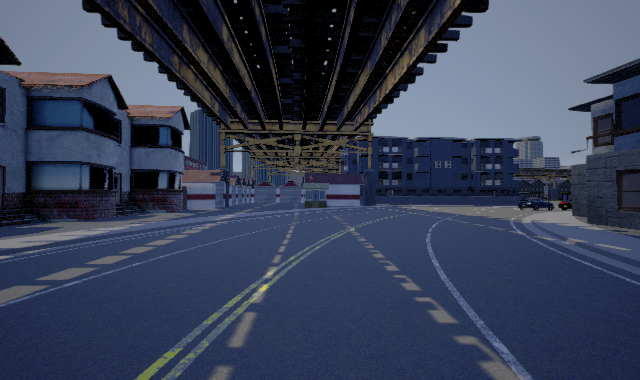vehicle: (518, 198, 554, 211)
